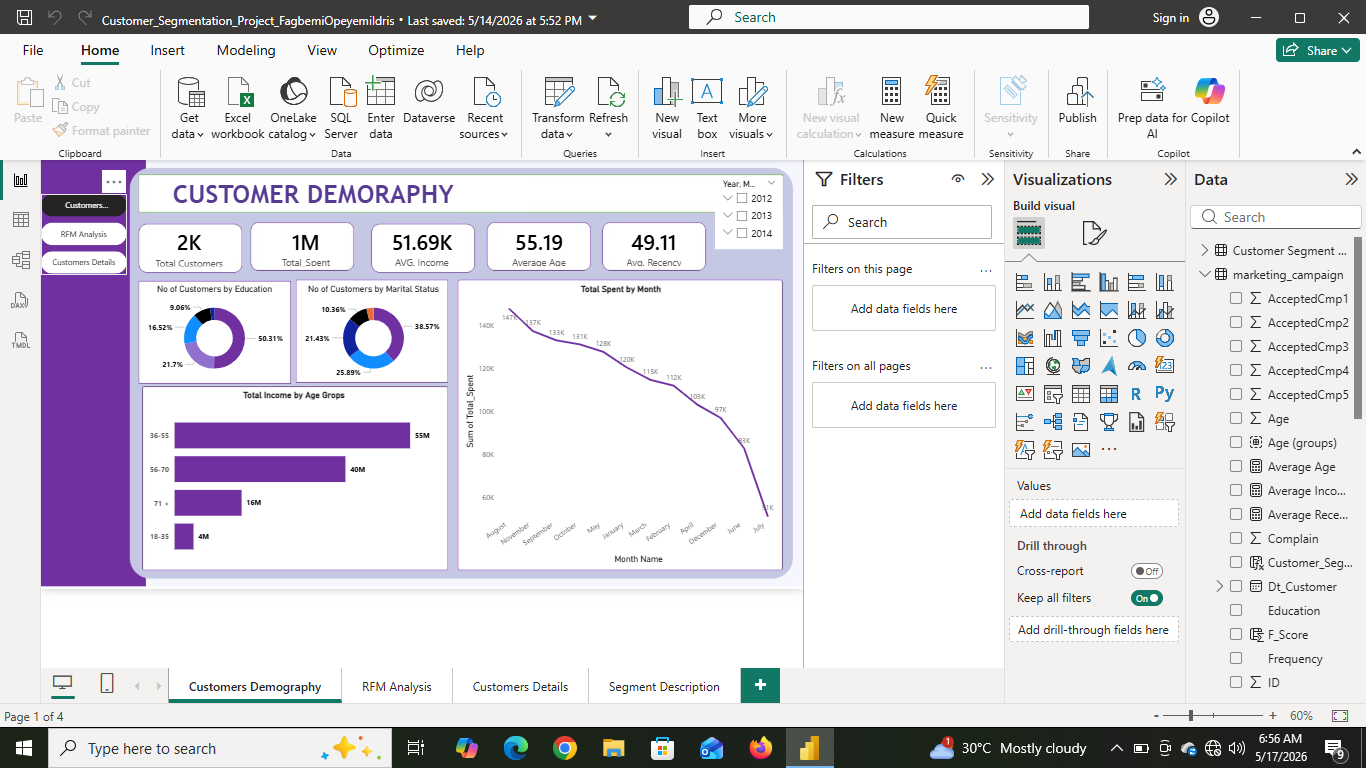

This screenshot's page, from the dashboard's own definition file:
{"tool":"powerbi","page":{"name":"Customers Demography","canvas":[1280,720],"ordinal":0},"visuals":[{"type":"cardVisual","fields":{"Data":["marketing_campaign.Total Customers"]},"box":[175.9,104.8,145.4,89.6],"z":0},{"type":"slicer","fields":{"Values":["marketing_campaign.Year","marketing_campaign.Month Name"]},"box":[1132.2,26.9,114.2,122.6],"z":1000},{"type":"textbox","box":[176.4,26.9,648.4,58.8],"z":2000},{"type":"cardVisual","fields":{"Data":["marketing_campaign.Average Recency"]},"box":[957.5,102.5,144.5,90.7],"z":3000},{"type":"cardVisual","fields":{"Data":["marketing_campaign.Average Income"]},"box":[567.8,102.5,144.5,90.7],"z":4000},{"type":"cardVisual","fields":{"Data":["marketing_campaign.Average Age"]},"box":[764.3,102.5,144.5,90.7],"z":5000},{"type":"cardVisual","fields":{"Data":["Sum(marketing_campaign.Total_Spent)"]},"box":[347.7,102.5,194.9,90.7],"z":6000},{"type":"donutChart","title":"No of Customers by Education","fields":{"Y":["marketing_campaign.Total Customers"],"Category":["marketing_campaign.Education"]},"box":[164.6,208.3,253.6,162.9],"z":7000},{"type":"donutChart","title":"No of Customers by Marital Status","fields":{"Y":["marketing_campaign.Total Customers"],"Category":["marketing_campaign.Marital_Status"]},"box":[431.7,208.3,253.6,162.9],"z":8000},{"type":"barChart","title":"Total Income by Age Grops","fields":{"Category":["marketing_campaign.Age (groups)"],"Y":["Sum(marketing_campaign.Income)"]},"box":[176.4,386.4,497.2,297.3],"z":9000},{"type":"lineChart","title":"Total Spent by Month","fields":{"Y":["Sum(marketing_campaign.Total_Spent)"],"Category":["marketing_campaign.Month Name"]},"box":[707.2,208.3,534.2,475.4],"z":10000},{"type":"pageNavigator","box":[0,57.1,144.5,136.1],"z":11000}]}

Visuals, with their boxes on the page's 1280x720 design canvas (x1, y1, x2, y2). These are canvas units, not pixel positions in the 1366x768 screenshot, which may show the page scaled, cropped or inside an application window:
cardVisual - marketing_campaign.Total Customers: (left=176, top=105, right=321, bottom=194)
slicer - marketing_campaign.Year x marketing_campaign.Month Name: (left=1132, top=27, right=1246, bottom=150)
textbox: (left=176, top=27, right=825, bottom=86)
cardVisual - marketing_campaign.Average Recency: (left=958, top=102, right=1102, bottom=193)
cardVisual - marketing_campaign.Average Income: (left=568, top=102, right=712, bottom=193)
cardVisual - marketing_campaign.Average Age: (left=764, top=102, right=909, bottom=193)
cardVisual - Sum(marketing_campaign.Total_Spent): (left=348, top=102, right=543, bottom=193)
"No of Customers by Education" donutChart: (left=165, top=208, right=418, bottom=371)
"No of Customers by Marital Status" donutChart: (left=432, top=208, right=685, bottom=371)
"Total Income by Age Grops" barChart: (left=176, top=386, right=674, bottom=684)
"Total Spent by Month" lineChart: (left=707, top=208, right=1241, bottom=684)
pageNavigator: (left=0, top=57, right=144, bottom=193)
